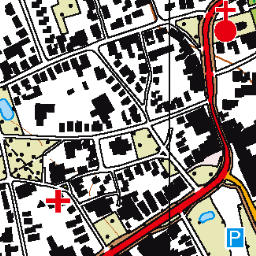church: (212, 1, 239, 46)
